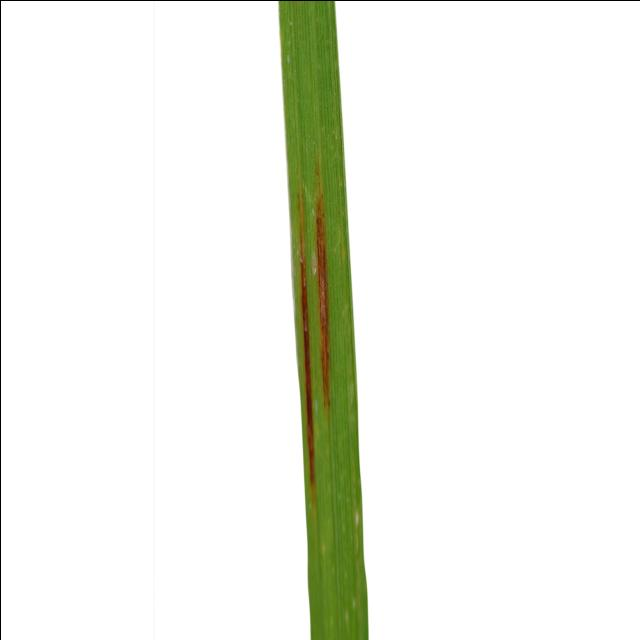Narrow brown: (225, 0, 496, 640)
